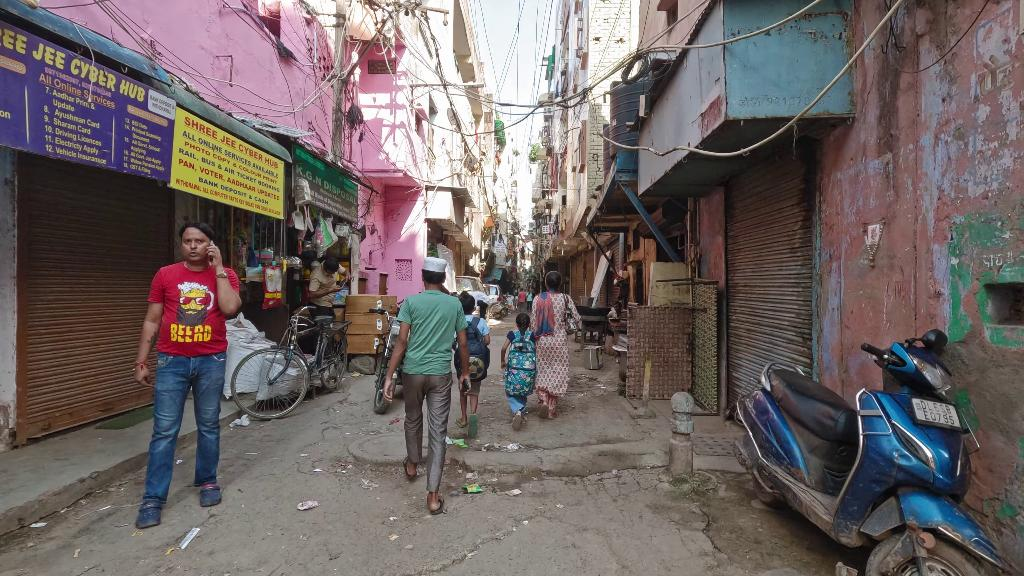garbage: (483, 439, 525, 458), (177, 520, 201, 548), (296, 497, 319, 519), (445, 432, 464, 454), (229, 412, 252, 429), (508, 481, 522, 500), (464, 481, 484, 494)
